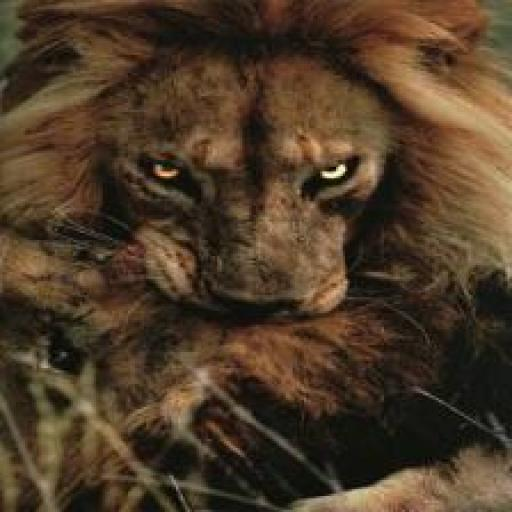lion: (39, 20, 488, 412)
